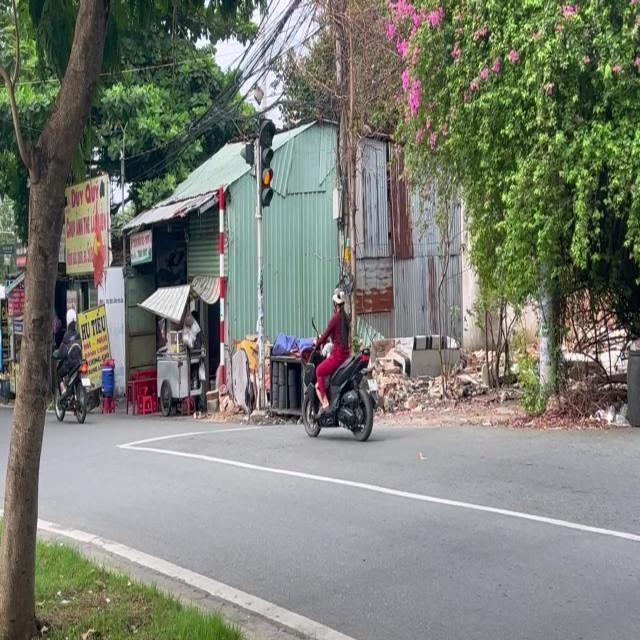yellow_light: (300, 288, 372, 439), (257, 117, 274, 205)
